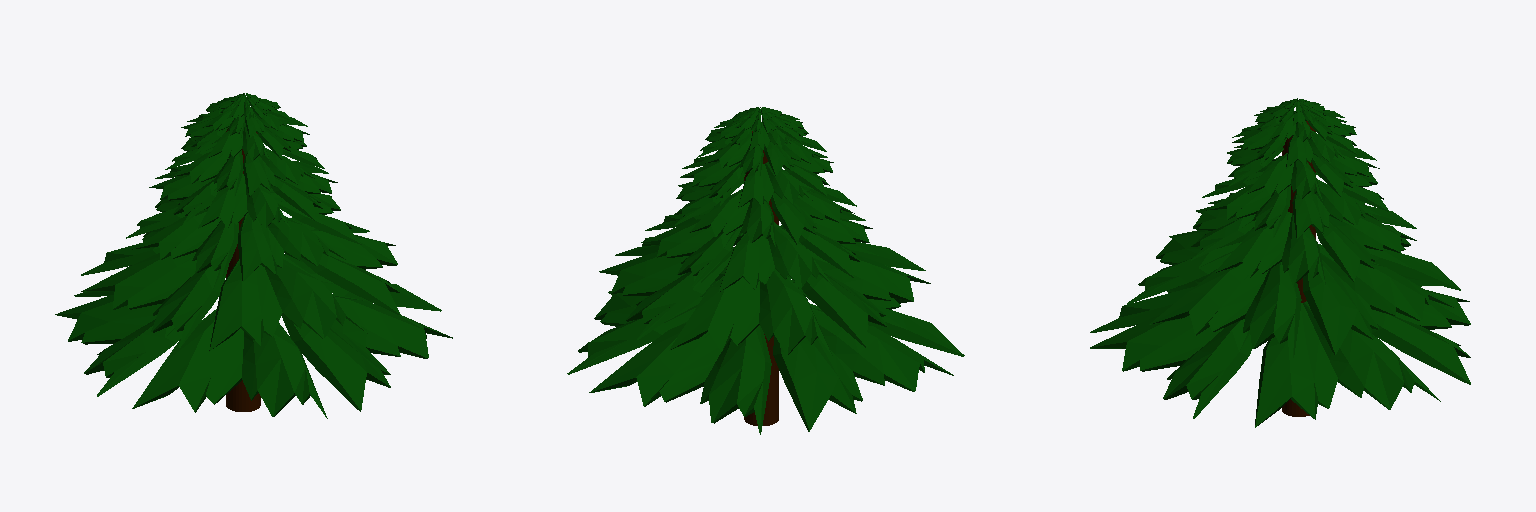
3 renders of one model, left to right at view 1: azimuth 30°, elevation 25°; view 2: azimuth 150°, elevation 25°; view 3: azimuth 270°, elevation 25°, orthographic.
Visible parts, largest first — view 1: Plane.001_Plane.001, Cylinder; view 2: Plane.001_Plane.001, Cylinder; view 3: Plane.001_Plane.001, Cylinder.
Boxes of the visible parts, <box> form: Plane.001_Plane.001: <box>55,93,452,418</box>; Cylinder: <box>226,128,260,411</box>; Plane.001_Plane.001: <box>567,107,964,434</box>; Cylinder: <box>744,131,778,425</box>; Plane.001_Plane.001: <box>1090,98,1470,427</box>; Cylinder: <box>1282,121,1315,416</box>.
Bounding box in the file's own units: 4.64 × 3.97 × 4.43.
2 materials, 2 textured.